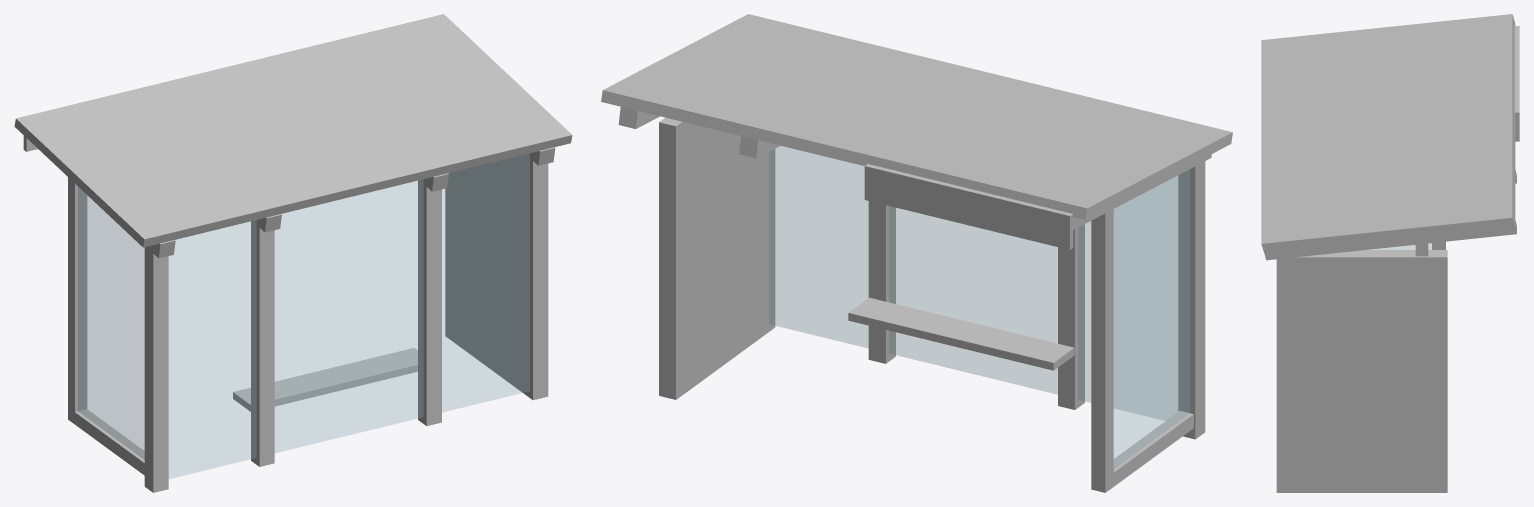
The picture shows the model from 3 angles, left to right: view 1: azimuth 30°, elevation 25°; view 2: azimuth 150°, elevation 25°; view 3: azimuth 270°, elevation 25°; orthographic projection. The views are drawn at different scales.
Visible parts, largest first — view 1: Bus_Stop_01, Bus_Stop_01_glass; view 2: Bus_Stop_01, Bus_Stop_01_glass; view 3: Bus_Stop_01.
Part boxes in pixels (left/top/right/bottom): Bus_Stop_01: left=14, top=14, right=572, bottom=492; Bus_Stop_01_glass: left=78, top=153, right=529, bottom=478; Bus_Stop_01: left=601, top=14, right=1232, bottom=492; Bus_Stop_01_glass: left=769, top=146, right=1189, bottom=468; Bus_Stop_01: left=1261, top=14, right=1519, bottom=492.
Bounding box in the file's own units: 3.66 × 2.37 × 1.96.
